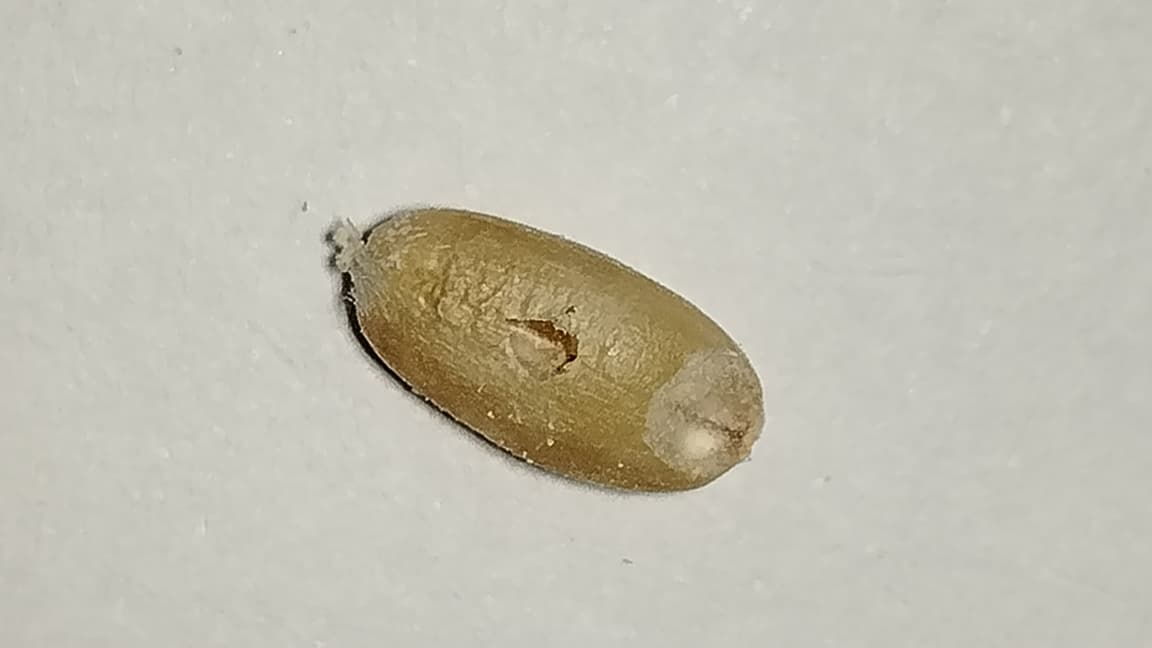damage: (350, 208, 762, 490)
insectdamage: (643, 349, 762, 478), (483, 307, 622, 392)
